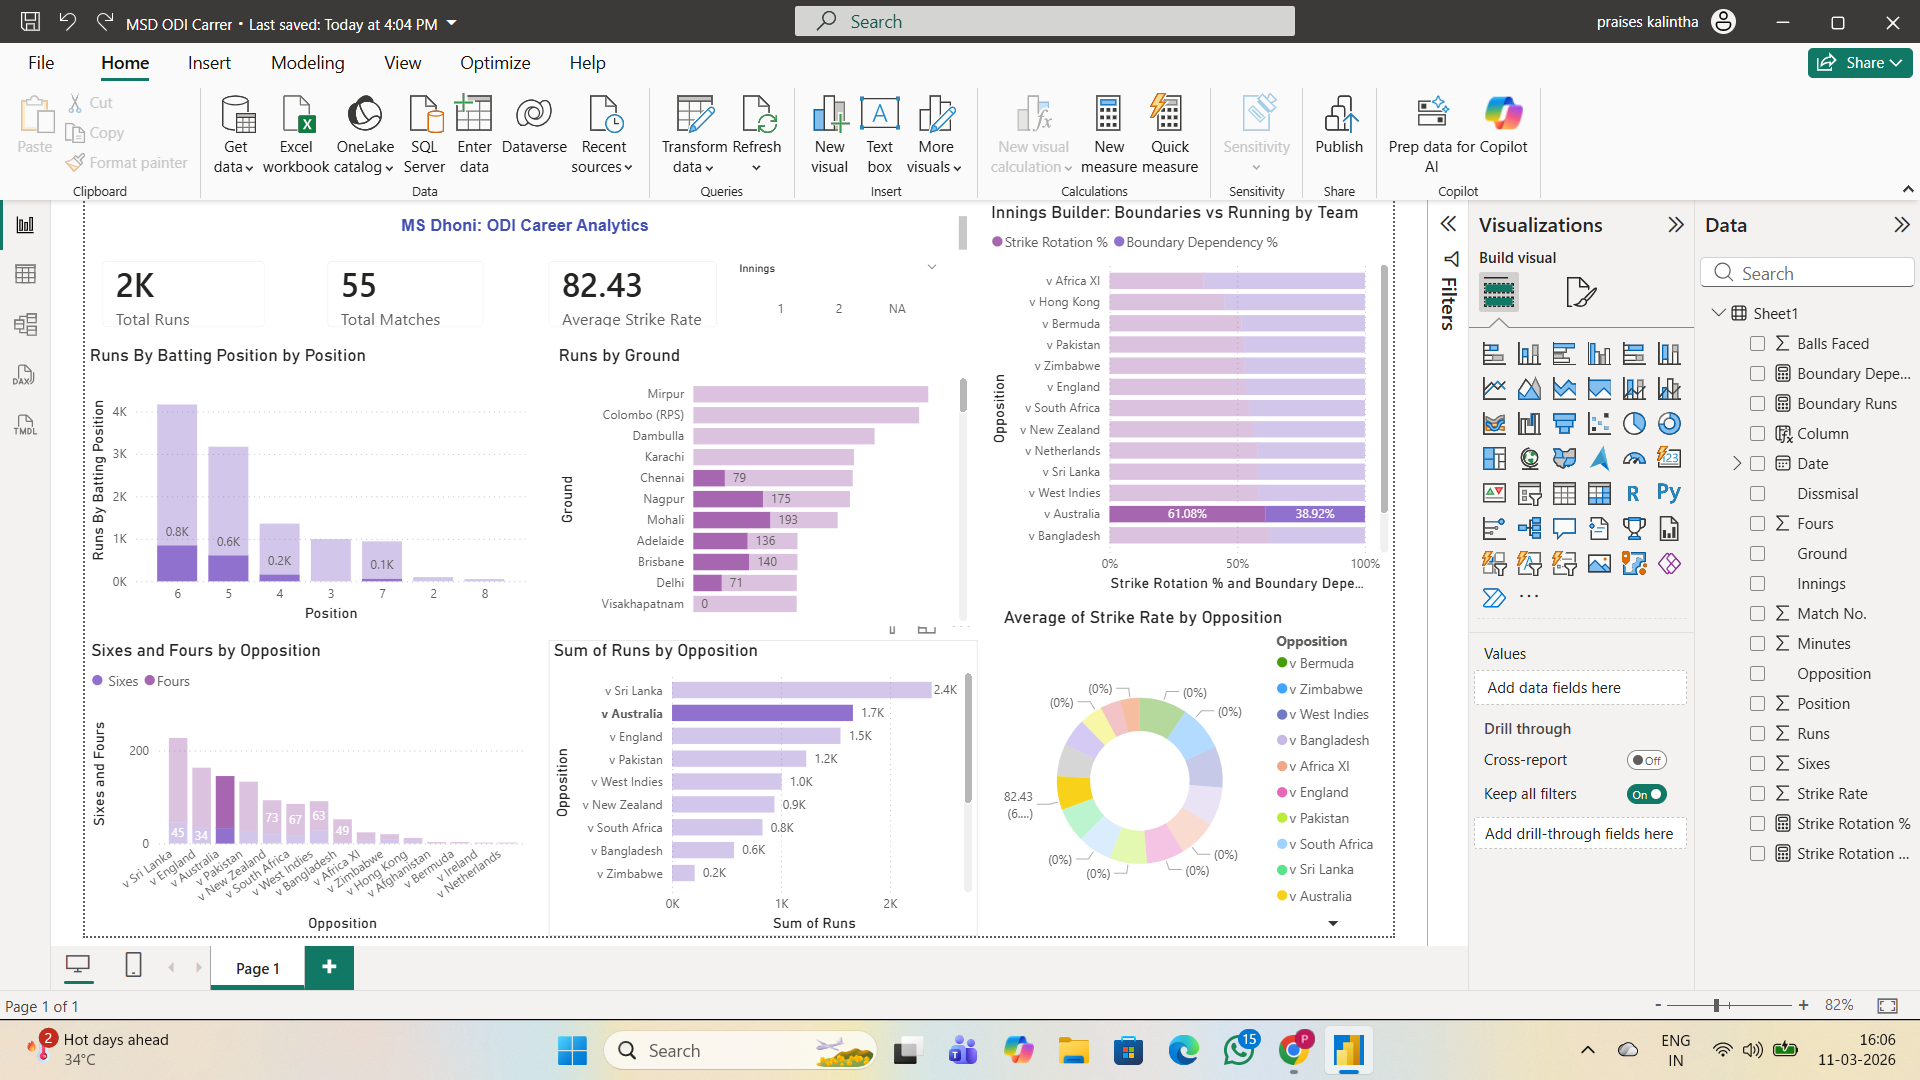

What the dashboard file says about the page in this screenshot:
{"tool":"powerbi","page":{"name":"Page 1","canvas":[1280,720],"ordinal":0},"visuals":[{"type":"columnChart","fields":{"Category":["Sheet1.Position"],"Y":["Sum(Sheet1.Runs)"]},"box":[0,141.8,436.6,275.1],"z":0},{"type":"columnChart","fields":{"Category":["Sheet1.Opposition"],"Y":["Sum(Sheet1.Sixes)","Sum(Sheet1.Fours)"]},"box":[1.2,430.4,435.3,289.8],"z":1000},{"type":"clusteredBarChart","fields":{"Y":["Sum(Sheet1.Runs)"],"Category":["Sheet1.Opposition"]},"box":[453.7,430.4,419.4,289.8],"z":2000},{"type":"donutChart","fields":{"Category":["Sheet1.Opposition"],"Y":["Avg(Sheet1.Strike Rate)"]},"box":[893.9,397.4,386.4,322.8],"z":3000},{"type":"cardVisual","fields":{"Data":["Sum(Sheet1.Runs)"]},"box":[0,42.8,193.2,99],"z":4000},{"type":"cardVisual","fields":{"Data":["CountNonNull(Sheet1.Match No.)"]},"box":[220.1,42.8,187.1,99],"z":5000},{"type":"cardVisual","fields":{"Data":["Avg(Sheet1.Strike Rate)"]},"box":[436.6,42.8,199.3,99],"z":6000},{"type":"barChart","fields":{"Category":["Sheet1.Ground"],"Y":["Sum(Sheet1.Runs)"]},"box":[458.6,141.8,409.6,275.1],"z":7000},{"type":"slicer","fields":{"Values":["Sheet1.Innings"]},"box":[627.3,55,218.9,86.8],"z":8000},{"type":"hundredPercentStackedBarChart","title":"Innings Builder: Boundaries vs Running by Team","fields":{"Category":["Sheet1.Opposition"],"Y":["Sheet1.Strike Rotation %","Sheet1.Boundary Dependency %"]},"box":[881.7,1.2,398.6,386.4],"z":9000},{"type":"textbox","box":[1.2,11,867,44],"z":10000}]}

Visuals, with their boxes on the page's 1280x720 design canvas (x1, y1, x2, y2). These are canvas units, not pixel positions in the 1920x1080 screenshot, which may show the page scaled, cropped or inside an application window:
columnChart - Sheet1.Position x Sum(Sheet1.Runs): [x1=0, y1=142, x2=437, y2=417]
columnChart - Sheet1.Opposition x Sum(Sheet1.Sixes): [x1=1, y1=430, x2=436, y2=720]
clusteredBarChart - Sum(Sheet1.Runs) x Sheet1.Opposition: [x1=454, y1=430, x2=873, y2=720]
donutChart - Sheet1.Opposition x Avg(Sheet1.Strike Rate): [x1=894, y1=397, x2=1280, y2=720]
cardVisual - Sum(Sheet1.Runs): [x1=0, y1=43, x2=193, y2=142]
cardVisual - CountNonNull(Sheet1.Match No.): [x1=220, y1=43, x2=407, y2=142]
cardVisual - Avg(Sheet1.Strike Rate): [x1=437, y1=43, x2=636, y2=142]
barChart - Sheet1.Ground x Sum(Sheet1.Runs): [x1=459, y1=142, x2=868, y2=417]
slicer - Sheet1.Innings: [x1=627, y1=55, x2=846, y2=142]
"Innings Builder: Boundaries vs Running by Team" hundredPercentStackedBarChart: [x1=882, y1=1, x2=1280, y2=388]
textbox: [x1=1, y1=11, x2=868, y2=55]
